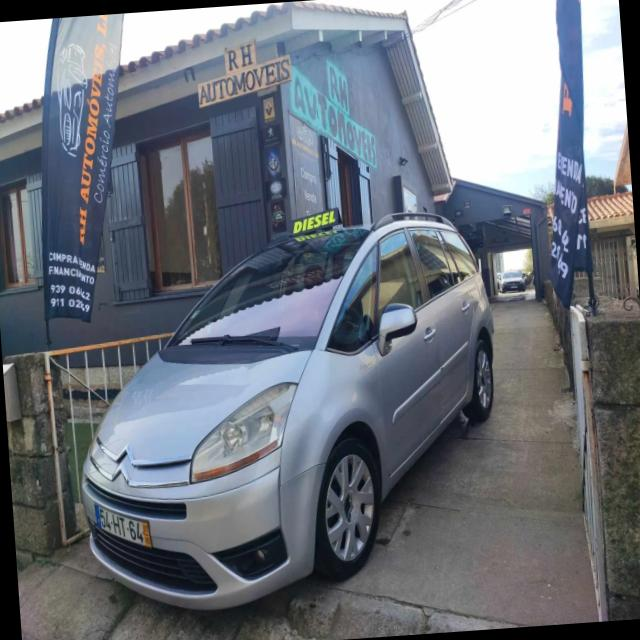portuguese-license-plates: (93, 503, 155, 550)
